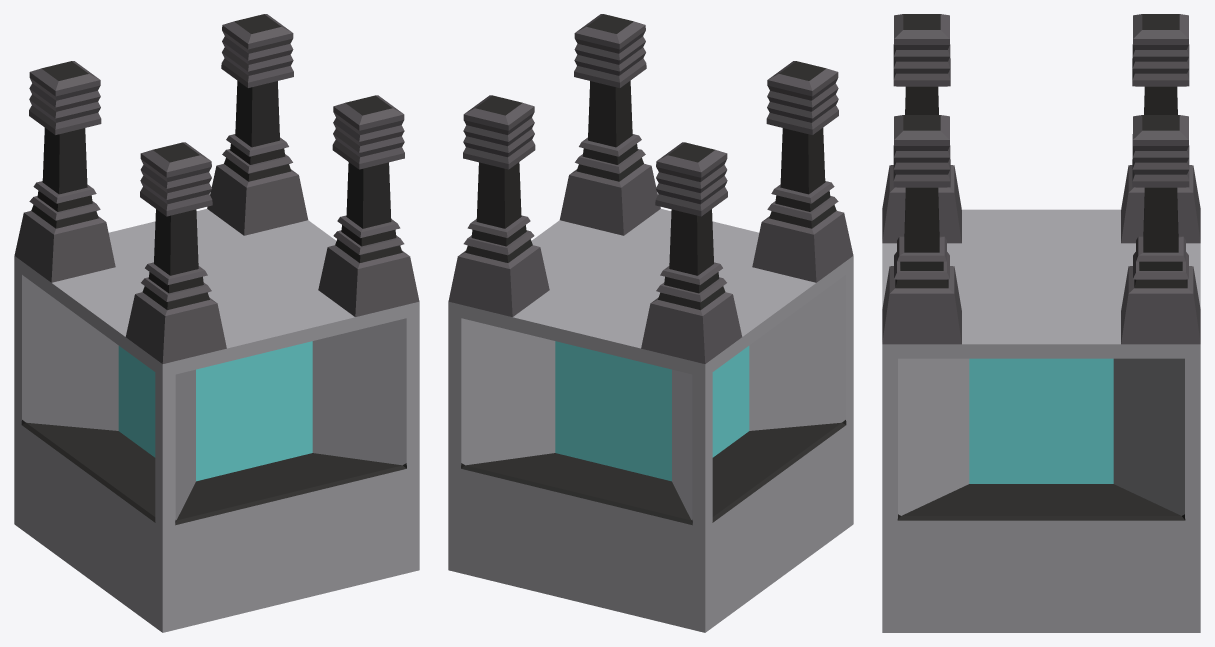
File: cloner.fbx
3 renders of one model, left to right at view 1: azimuth 30°, elevation 25°; view 2: azimuth 150°, elevation 25°; view 3: azimuth 270°, elevation 25°, orthographic. The views are drawn at different scales.
Visible parts, largest first — view 1: Cube; view 2: Cube; view 3: Cube.
Boxes of the visible parts, x1=… form: Cube: x1=14, y1=14, x2=419, y2=632; Cube: x1=448, y1=14, x2=853, y2=632; Cube: x1=882, y1=14, x2=1200, y2=632.
Bounding box in the file's own units: 2 × 2 × 3.42.
